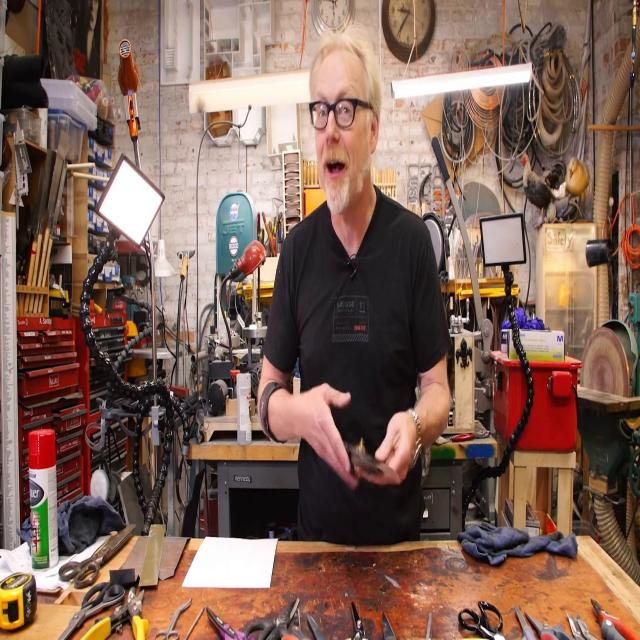scissor: (59, 523, 138, 590), (58, 582, 124, 640), (244, 595, 300, 640), (458, 600, 509, 640), (206, 604, 252, 640), (154, 598, 193, 640), (528, 607, 570, 640), (283, 606, 308, 640), (514, 604, 537, 640)
